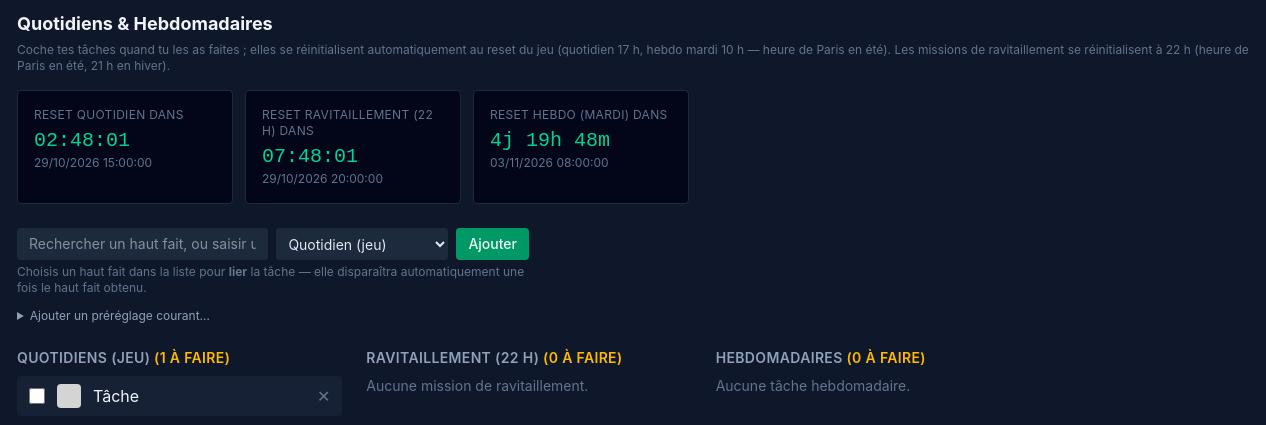
Scenario: RecurringView › hides broken icons
Step 1. Type "ch" into the field with placeholder "Rechercher un haut fait, ou saisir une tâche libre…" → (143, 244), box [17,228,268,260]
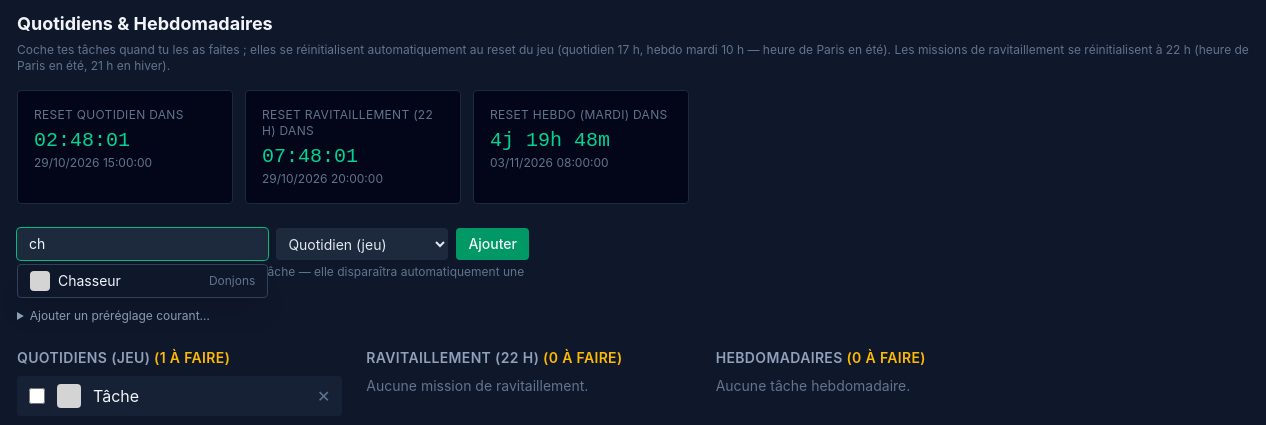
Expected: the button "Chasseur Donjons" is shown, [18,265,267,297]
